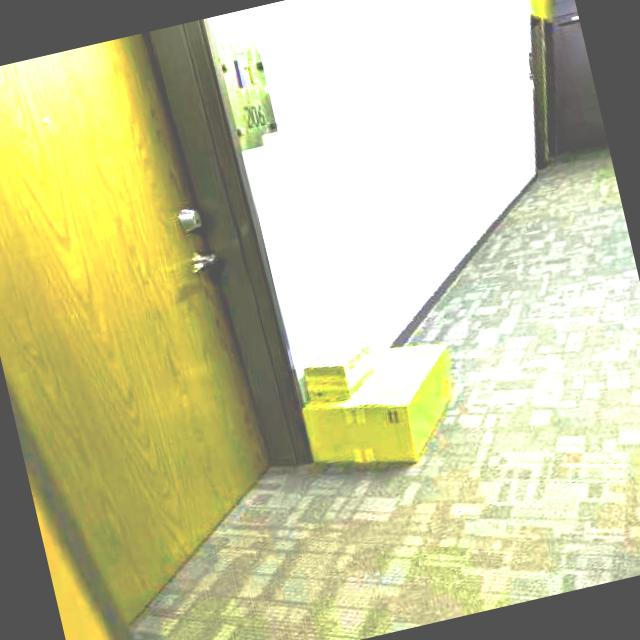Box: (286, 329, 474, 489), (286, 330, 386, 410)
